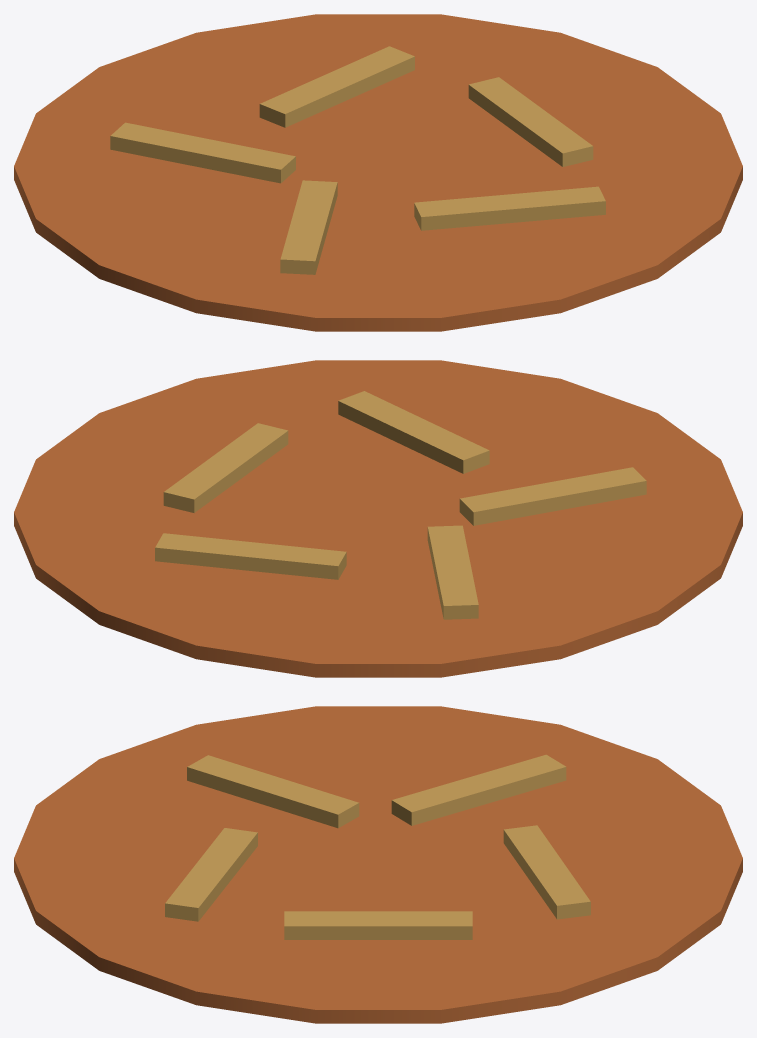
The model's file is ground-decal.glb.
The picture shows the model from 3 angles, top to bottom: view 1: azimuth 30°, elevation 25°; view 2: azimuth 150°, elevation 25°; view 3: azimuth 270°, elevation 25°; orthographic projection.
Visible parts, largest first — view 1: decal_plate, rune_1, rune_3, rune_4, rune_0, rune_2; view 2: decal_plate, rune_4, rune_2, rune_1, rune_0, rune_3; view 3: decal_plate, rune_0, rune_3, rune_2, rune_1, rune_4.
Part boxes in pixels (<box>): decal_plate: <box>14,14,742,331</box>; rune_1: <box>414,186,605,230</box>; rune_3: <box>110,122,295,183</box>; rune_4: <box>259,46,414,127</box>; rune_0: <box>468,77,593,166</box>; rune_2: <box>280,180,337,274</box>; decal_plate: <box>14,360,742,677</box>; rune_4: <box>155,533,346,579</box>; rune_2: <box>459,467,646,525</box>; rune_1: <box>338,391,489,473</box>; rune_0: <box>163,423,288,512</box>; rune_3: <box>427,525,478,619</box>; decal_plate: <box>14,706,742,1023</box>; rune_0: <box>284,911,472,939</box>; rune_3: <box>391,754,566,825</box>; rune_2: <box>187,755,359,828</box>; rune_1: <box>165,828,257,921</box>; rune_4: <box>503,825,590,919</box>.
Size of what is drawn, in the model's own units: 2.86 by 0.12 by 2.9.
